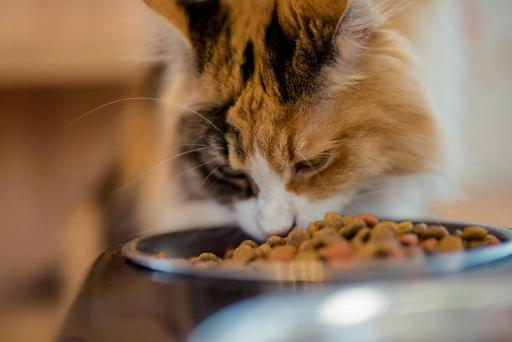cat_eating: (60, 0, 511, 341)
